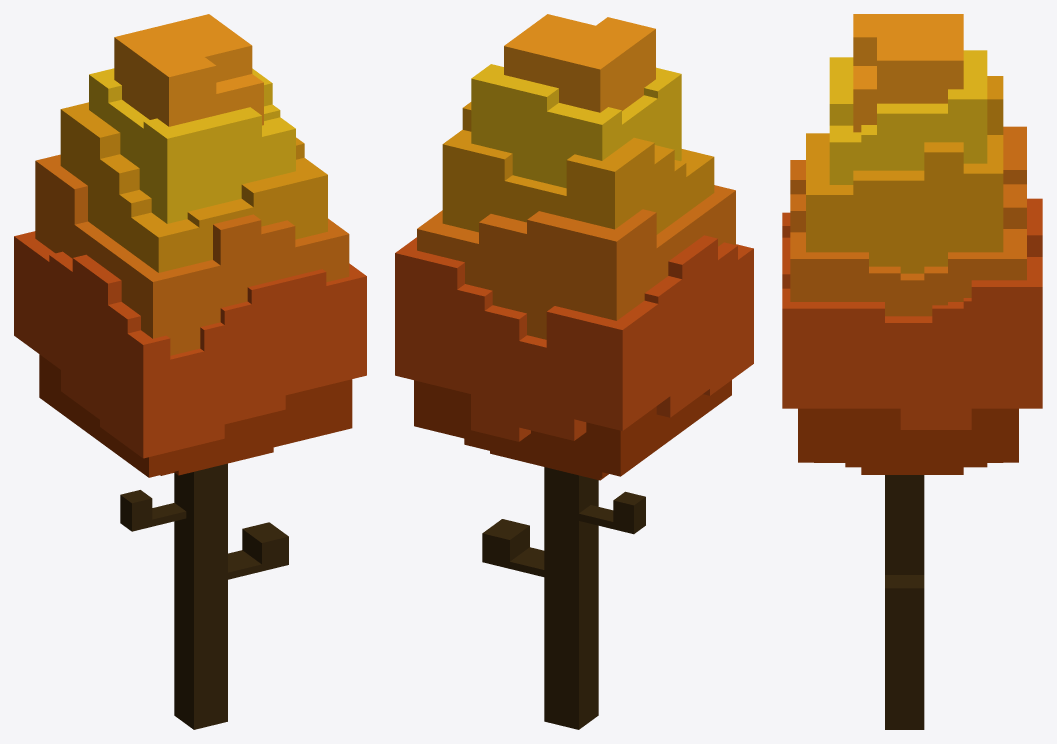
File: TreeYellow.fbx
3 views of the same model, side by side, from view 1: azimuth 30°, elevation 25°; view 2: azimuth 150°, elevation 25°; view 3: azimuth 270°, elevation 25° (orthographic).
Parts seen in each view (by area): view 1: Box_5; view 2: Box_5; view 3: Box_5.
Boxes of the visible parts, x1,y1,x2,y2 form: Box_5: (14,14,366,729); Box_5: (395,14,753,729); Box_5: (782,14,1042,729).
Bounding box in the file's own units: 33 × 95 × 33.
